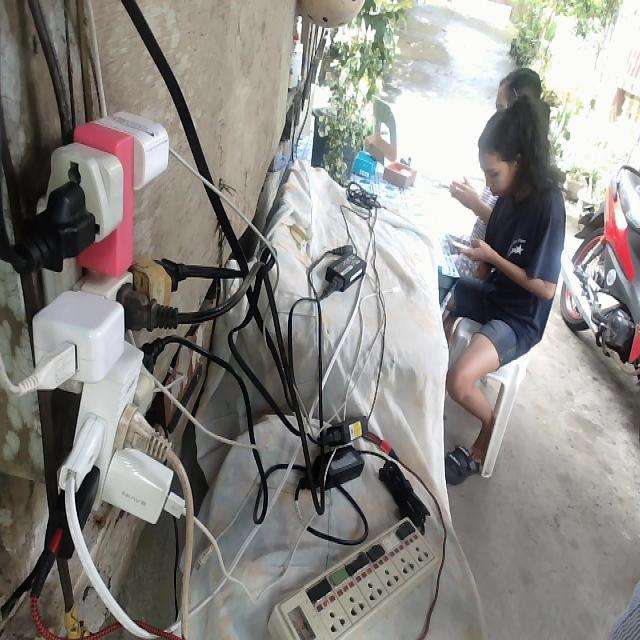-: (23, 105, 181, 527)
